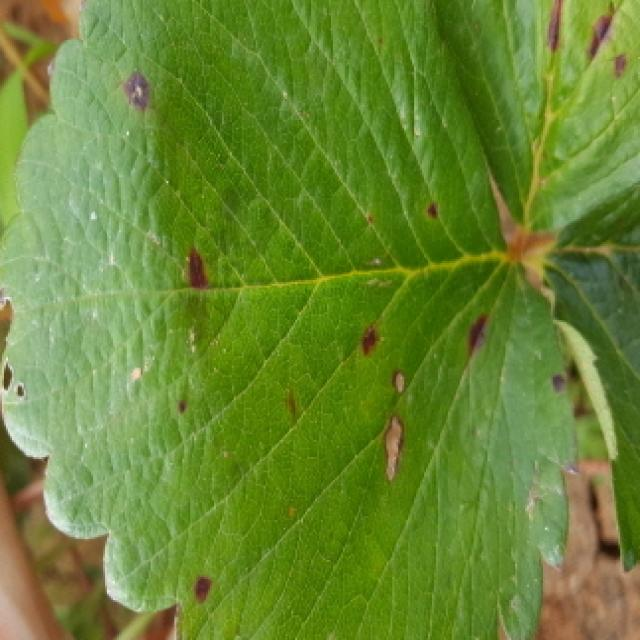Leaf Spot: (0, 0, 583, 640), (430, 0, 640, 231), (530, 186, 640, 574)
